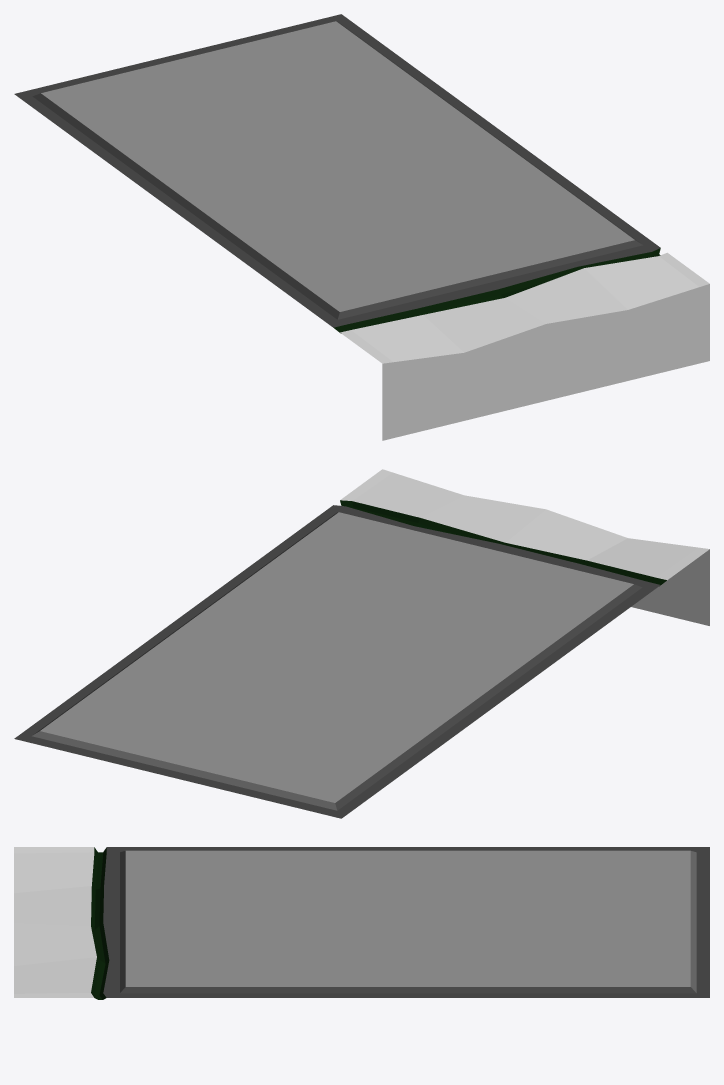
The model's file is sidewalk.fbx.
The picture shows the model from 3 angles, top to bottom: view 1: azimuth 30°, elevation 25°; view 2: azimuth 150°, elevation 25°; view 3: azimuth 270°, elevation 25°; orthographic projection. The views are drawn at different scales.
Visible parts, largest first — view 1: sidewalk; view 2: sidewalk; view 3: sidewalk.
Part boxes in pixels (left/top/right/bottom): sidewalk: left=14, top=14, right=709, bottom=440; sidewalk: left=14, top=469, right=709, bottom=818; sidewalk: left=14, top=847, right=709, bottom=999.
Bounding box in the file's own units: 1477 × 351 × 2878.
